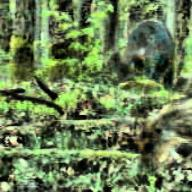boar: (99, 4, 191, 89)
